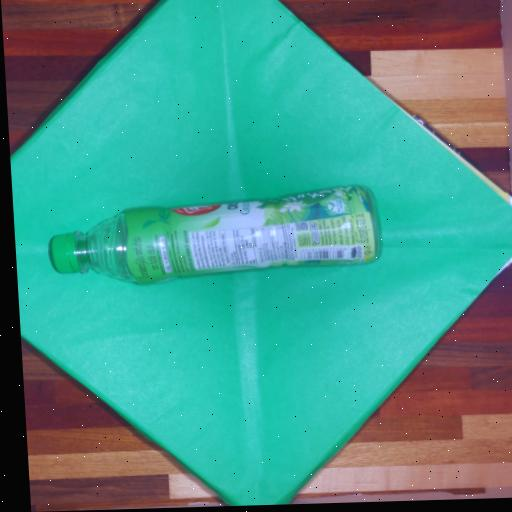bottle: (34, 171, 396, 300)
